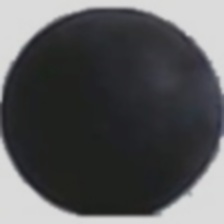grapes: (35, 18, 193, 213)
